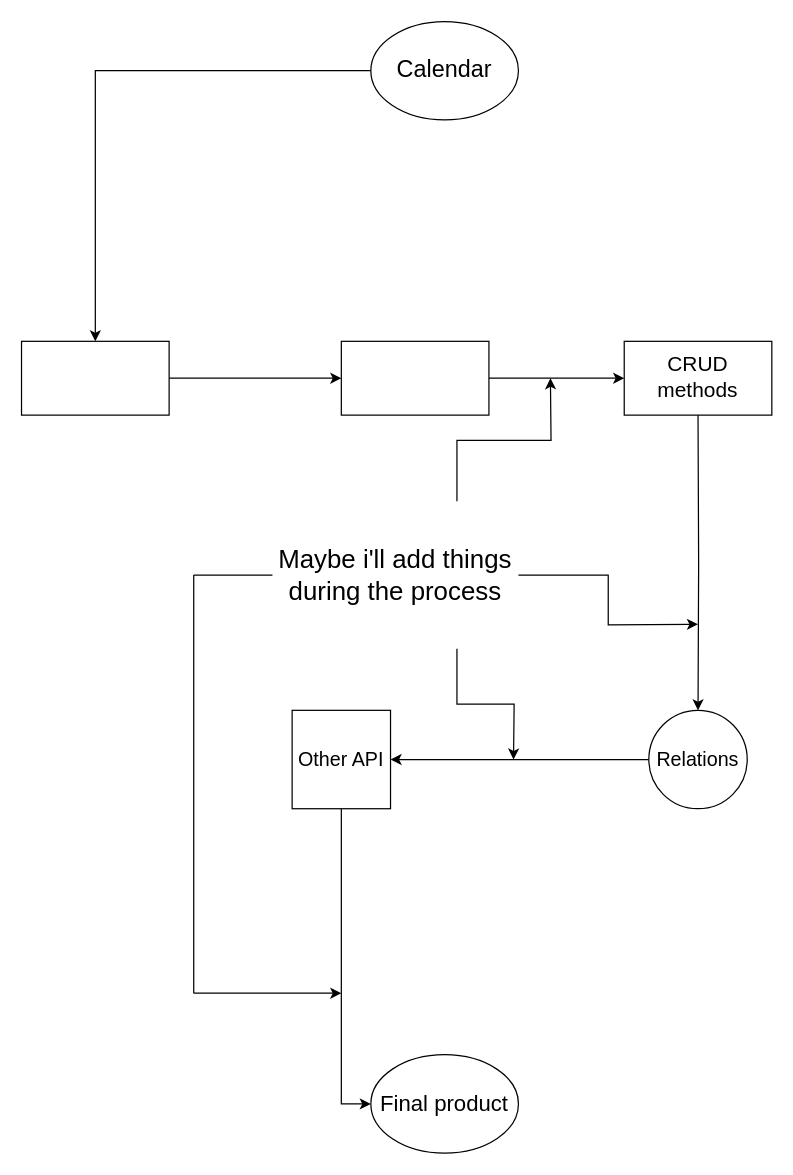
The diagram is 793 pixels wide and 1175 high, and some of its shapes have lost their labels. Here are the shapes that lost their labels. From the top down, the centre of each, then its label:
At (x=94, y=377): "Class: Calendar, User, Event...".
At (x=414, y=377): "MVC model".
